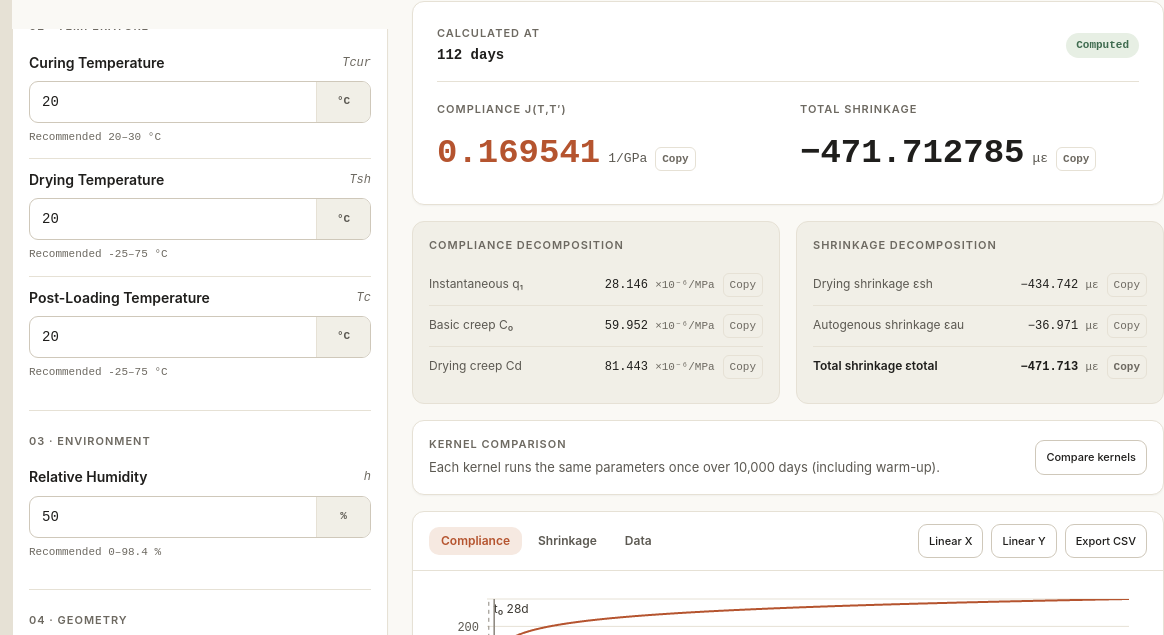
Test: ModelCalculator workspace state › Instantaneous q1 does not drift with the post-loading temperature
(page scrolled)
Expected: the text "Computed" is shown, [1066,33,1139,58]
Replace the text in the number field labelled "Post-Loading Temperature" with "30": (173, 337) [30,317,316,357]
(page scrolled)
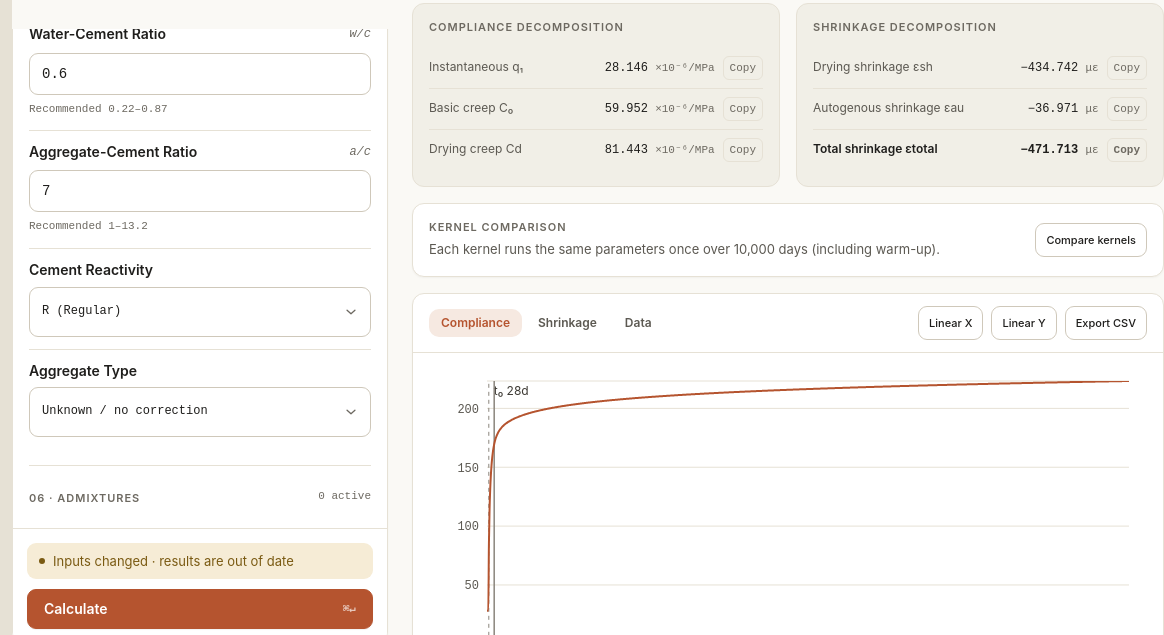
Click the button "Calculate ⌘↵": (76, 609) [27,590,373,630]
(page scrolled)
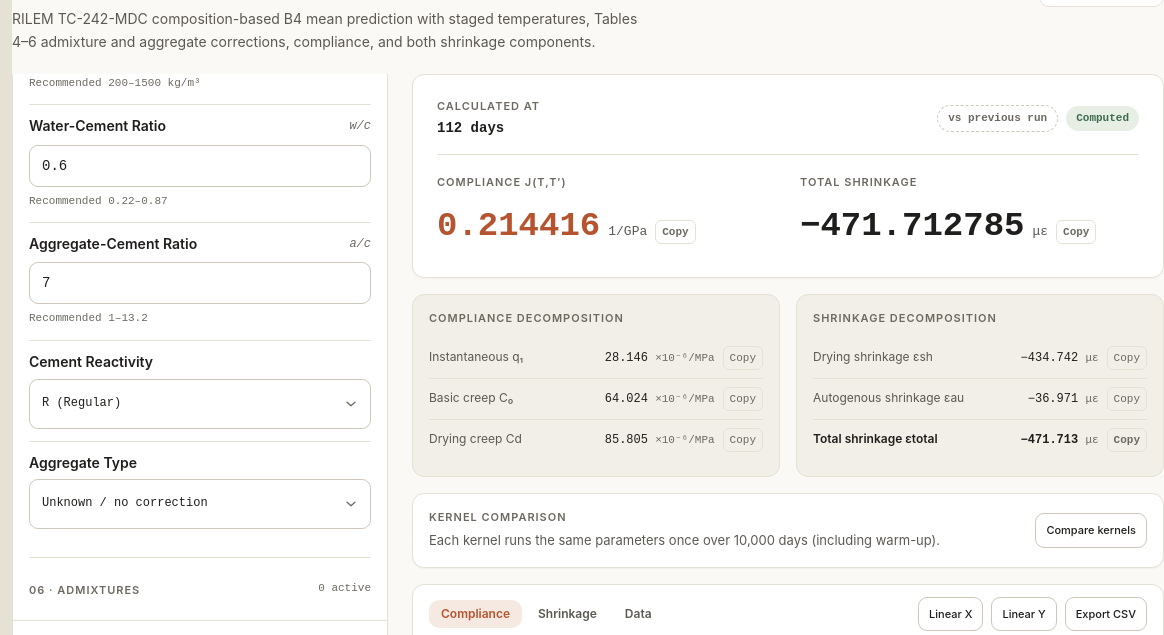
Expected: the text "Computed" is shown, [1066,106,1139,131]
